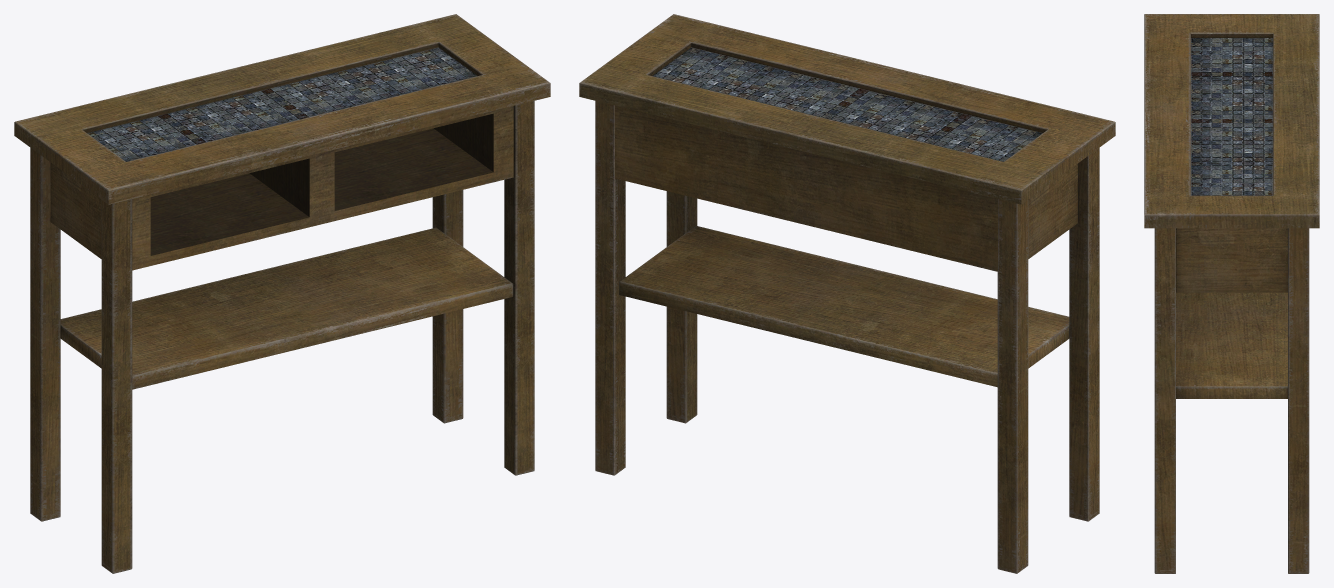
Rendered from endTable05.FBX.
The picture shows the model from 3 angles, left to right: view 1: azimuth 30°, elevation 25°; view 2: azimuth 150°, elevation 25°; view 3: azimuth 270°, elevation 25°; orthographic projection. The views are drawn at different scales.
Visible parts, largest first — view 1: SM_EndTable05; view 2: SM_EndTable05; view 3: SM_EndTable05.
Part boxes in pixels (x1,y1,x2,y2): SM_EndTable05: (14,14,550,573); SM_EndTable05: (579,14,1115,573); SM_EndTable05: (1144,14,1319,573).
Bounding box in the file's own units: 127 × 107 × 46.67.
Materials: 1 (1 with a texture image).
